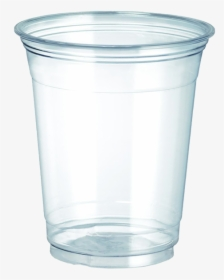plastic_glass: (9, 4, 220, 276)
